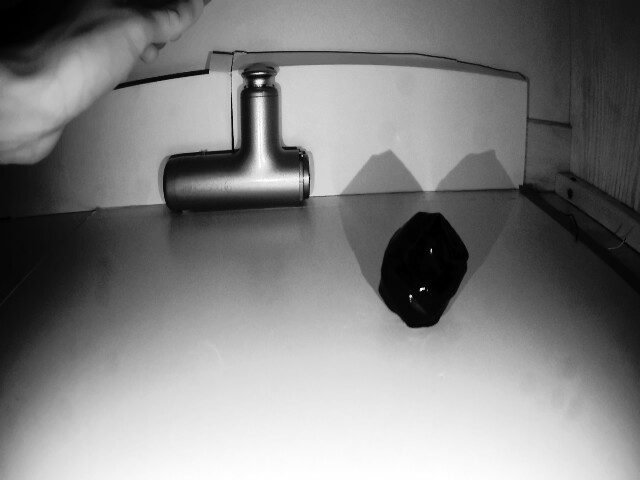silver: (383, 205, 463, 336)
